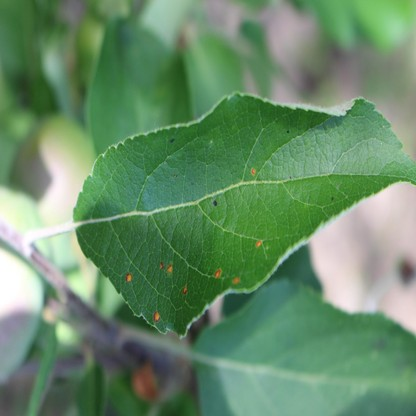rust: (153, 312, 160, 322), (251, 166, 257, 176), (168, 262, 174, 272), (126, 273, 132, 282), (215, 269, 221, 277), (256, 240, 262, 248), (233, 277, 239, 284), (182, 285, 187, 293), (160, 262, 163, 269)
